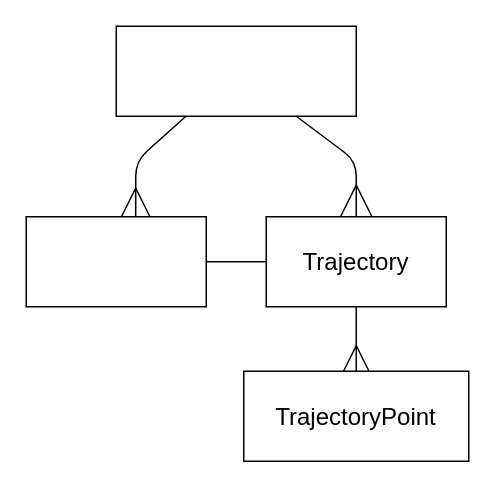
The diagram is 495 pixels wide and 488 high, and some of its shapes have lost their labels. Each missing label, with the centre of its shape:
"AnomalyMessage" belongs at point 235,70.
"JpegFrame" belongs at point 115,261.
